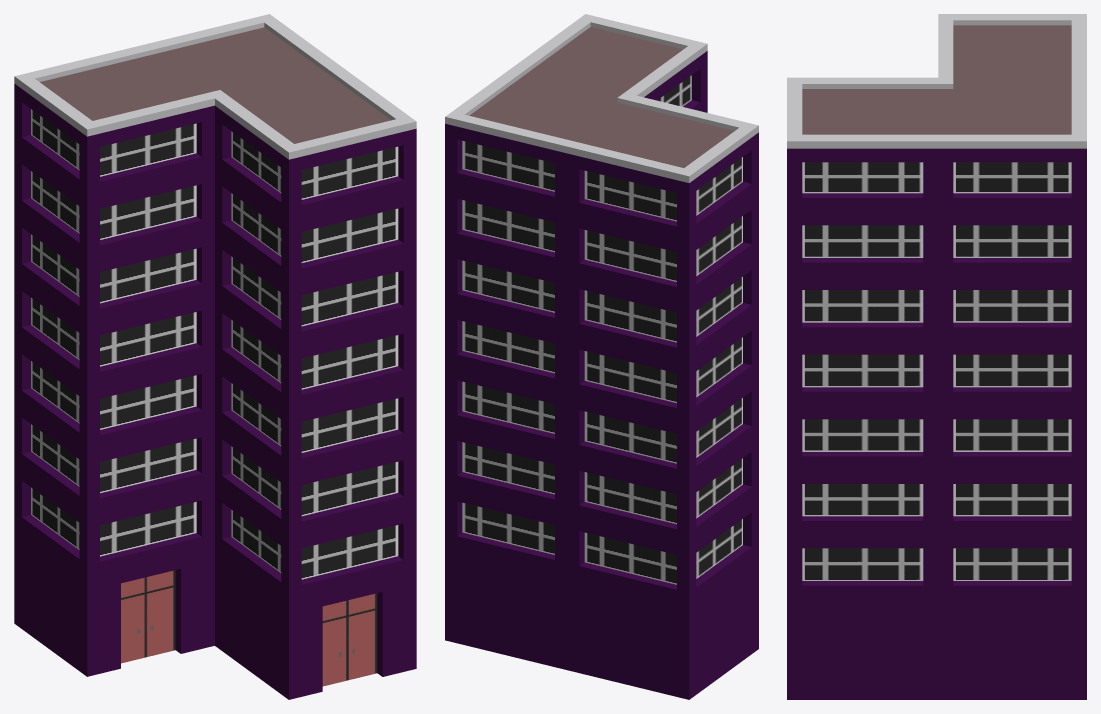
The model's file is building20a.FBX.
The picture shows the model from 3 angles, left to right: view 1: azimuth 30°, elevation 25°; view 2: azimuth 150°, elevation 25°; view 3: azimuth 270°, elevation 25°; orthographic projection. The views are drawn at different scales.
Visible parts, largest first — view 1: building20a; view 2: building20a; view 3: building20a.
Part boxes in pixels (x1,y1,x2,y2): building20a: (14,14,416,699); building20a: (445,14,758,699); building20a: (787,14,1086,699).
Size of the model in its own units: 19.9 by 40.77 by 19.82.
